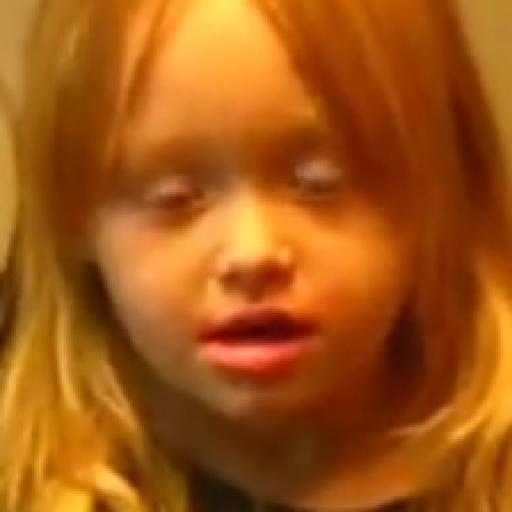Autism: (11, 0, 512, 478)
